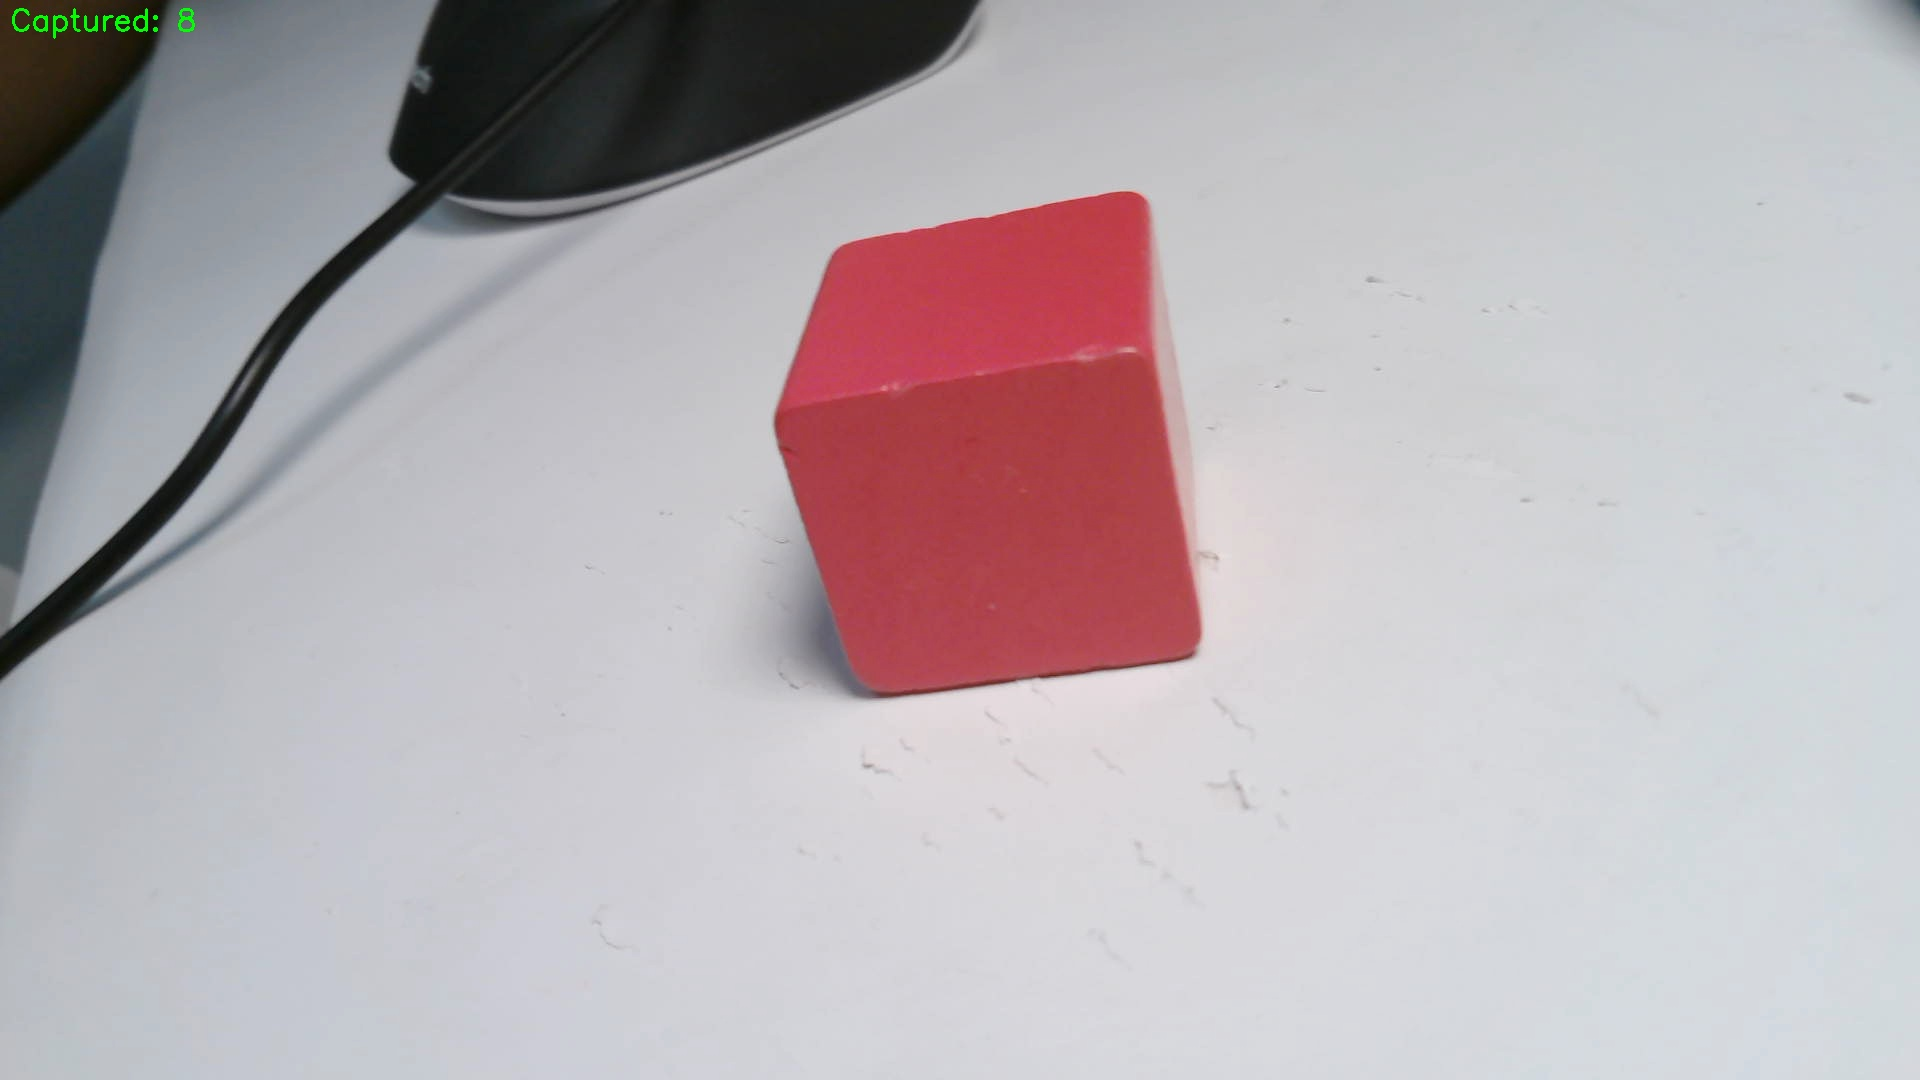red: (782, 193, 1204, 690)
